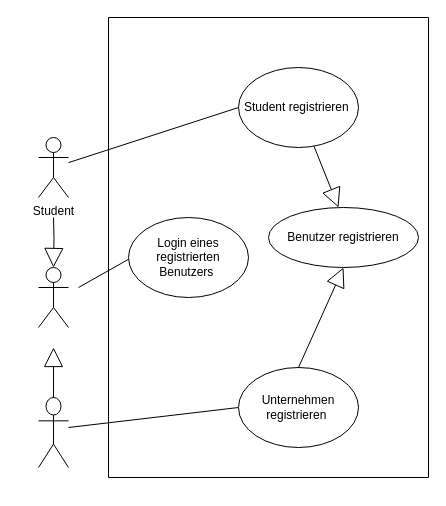
This 446x506 diagram has some shape labels left out. Here are the shapes that lost their labels. From the top down, the centre of each, then its label:
At (53,297): "Benutzer".
At (53,432): "Unternehmen".
